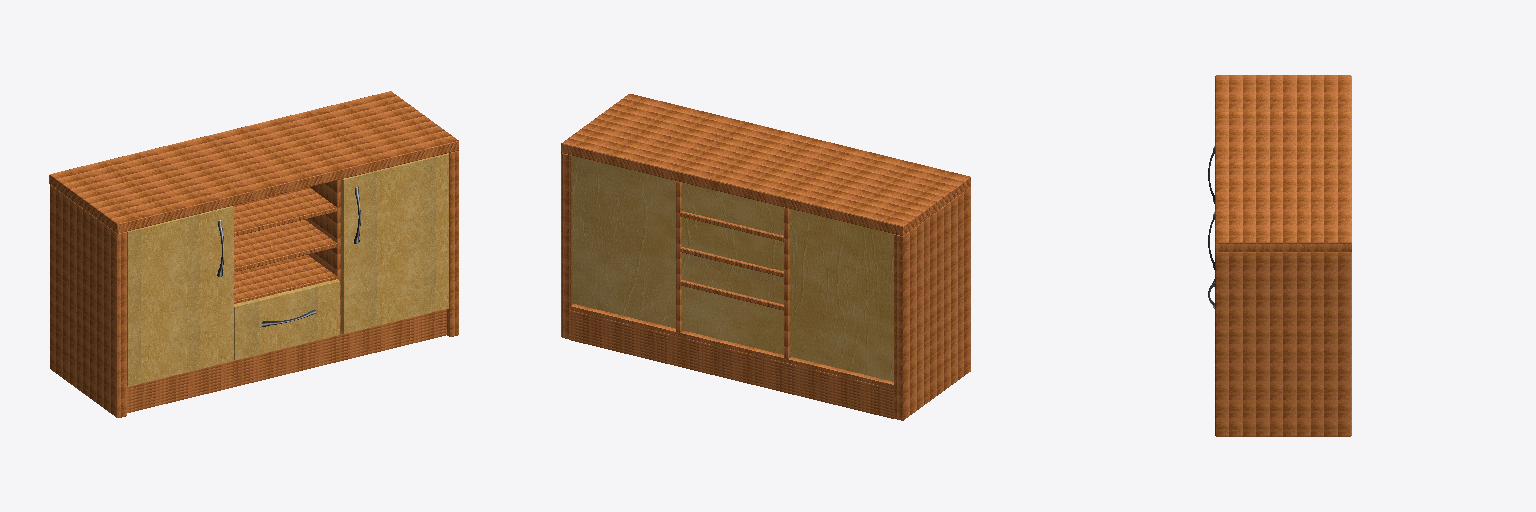
The picture shows the model from 3 angles: view 1: azimuth 30°, elevation 25°; view 2: azimuth 150°, elevation 25°; view 3: azimuth 270°, elevation 25°; orthographic projection.
Visible parts, largest first — view 1: main_body, doors, handles; view 2: main_body, back_panel; view 3: main_body.
Boxes of the visible parts, x1=… form: main_body: x1=49, y1=91, x2=458, y2=417; doors: x1=127, y1=153, x2=448, y2=386; handles: x1=217, y1=187, x2=360, y2=326; main_body: x1=561, y1=94, x2=970, y2=420; back_panel: x1=572, y1=156, x2=893, y2=381; main_body: x1=1215, y1=75, x2=1351, y2=436.
Size of the model in its own units: 1158 by 630 by 423.
Materials: 3 (3 with a texture image).